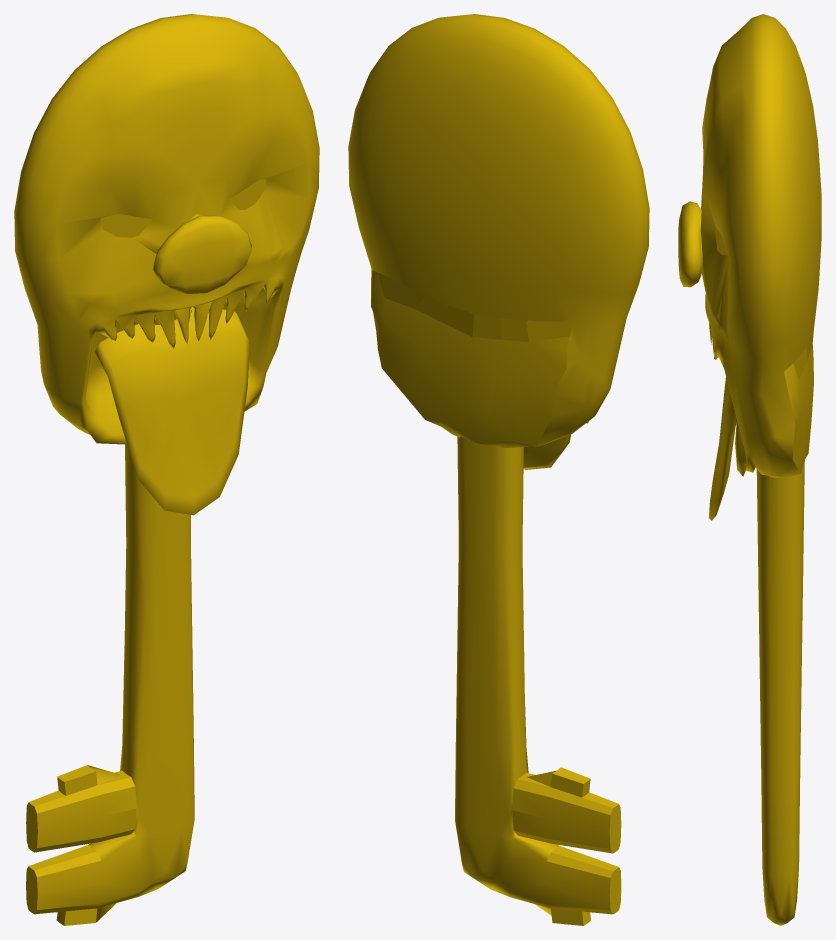
The model's file is clown key 2.fbx.
3 renders of one model, left to right at view 1: azimuth 30°, elevation 25°; view 2: azimuth 150°, elevation 25°; view 3: azimuth 270°, elevation 25°, orthographic. The views are drawn at different scales.
Visible parts, largest first — view 1: polySurface7; view 2: polySurface7; view 3: polySurface7.
Part boxes in pixels (bbox=[...]): polySurface7: bbox=[14, 14, 319, 925]; polySurface7: bbox=[348, 14, 649, 925]; polySurface7: bbox=[678, 14, 821, 925].
Bounding box in the file's own units: 5.11 × 14.56 × 2.08.
